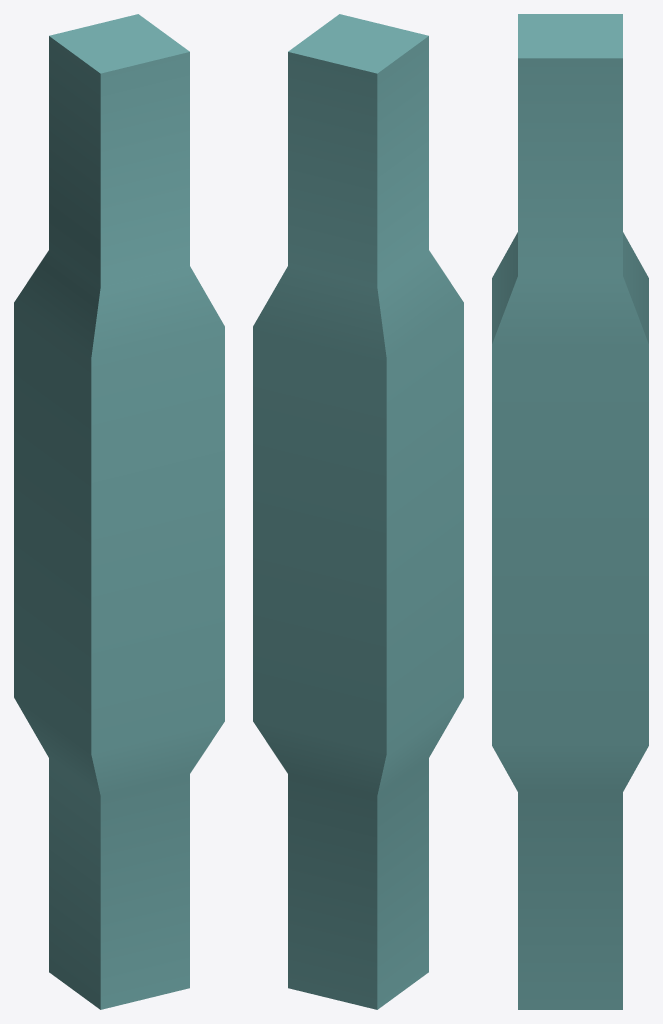
File: column_deco.fbx
3 renders of one model, left to right at view 1: azimuth 30°, elevation 25°; view 2: azimuth 150°, elevation 25°; view 3: azimuth 270°, elevation 25°, orthographic.
Parts seen in each view (by area): view 1: column_deco; view 2: column_deco; view 3: column_deco.
Part boxes in pixels (<box>): column_deco: <box>14,14,224,1009</box>; column_deco: <box>253,14,463,1009</box>; column_deco: <box>492,14,648,1009</box>.
Bounding box in the file's own units: 14.95 × 100 × 14.95.
